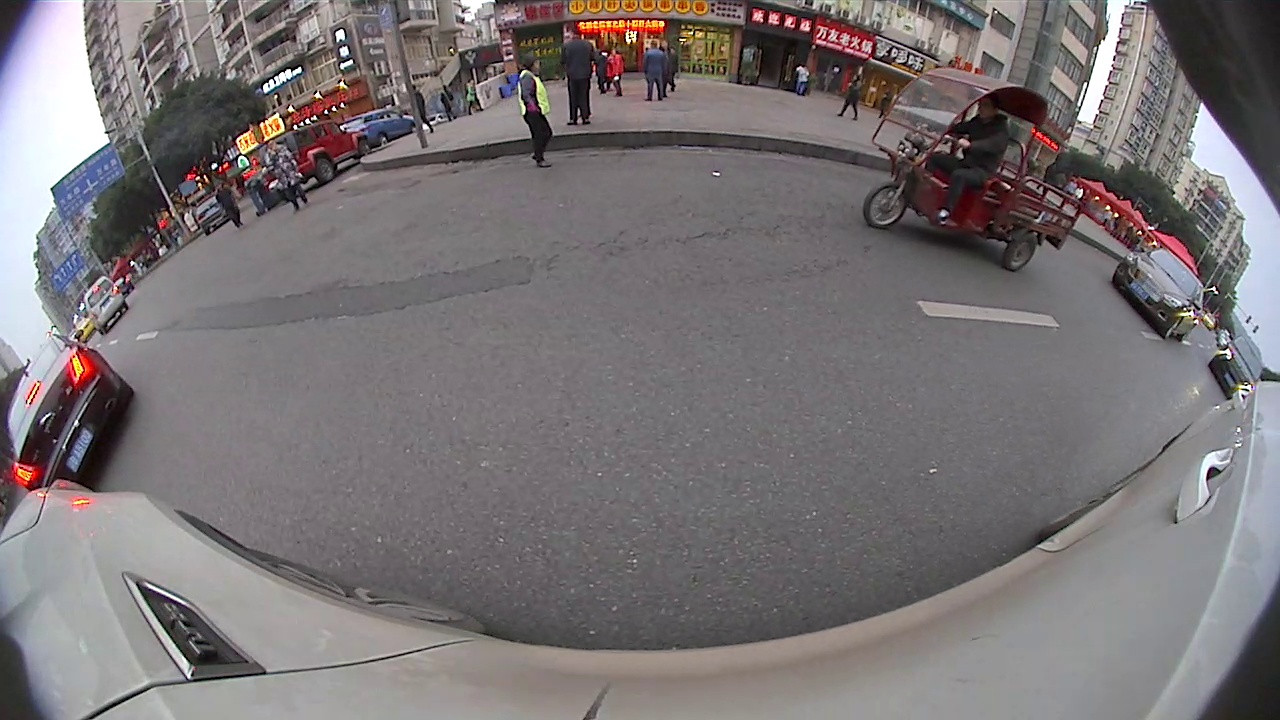car: (3, 327, 139, 496), (1106, 243, 1205, 344), (254, 118, 375, 188), (1210, 330, 1269, 396), (339, 102, 417, 145), (84, 272, 129, 333)
front: (862, 181, 910, 230)
person: (515, 49, 555, 170), (265, 134, 308, 217), (564, 23, 593, 130)
rear: (1001, 234, 1038, 273)
rider: (859, 65, 1088, 270)
